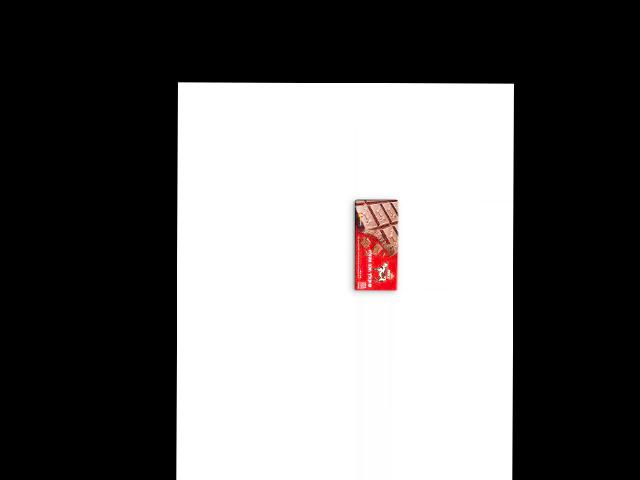chocolate: (351, 197, 400, 293)
